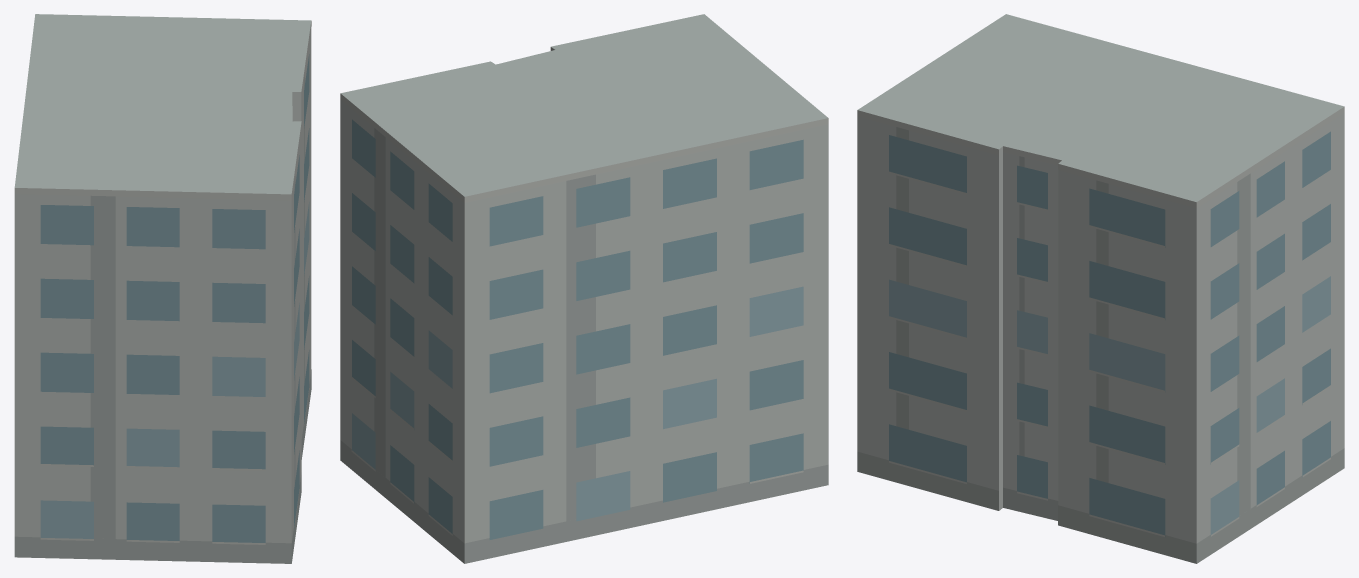
Rendered from survey-upis-32893495.glb.
3 views of the same model, side by side, from view 1: azimuth 30°, elevation 25°; view 2: azimuth 150°, elevation 25°; view 3: azimuth 270°, elevation 25° (orthographic). The views are drawn at different scales.
Parts seen in each view (by area): view 1: survey-upis-32893495.tmp; view 2: survey-upis-32893495.tmp; view 3: survey-upis-32893495.tmp.
Boxes of the visible parts, <box> form: survey-upis-32893495.tmp: <box>14,14,311,563</box>; survey-upis-32893495.tmp: <box>340,14,828,563</box>; survey-upis-32893495.tmp: <box>857,14,1344,563</box>.
Bounding box in the file's own units: 16.3 × 14.6 × 17.84.
